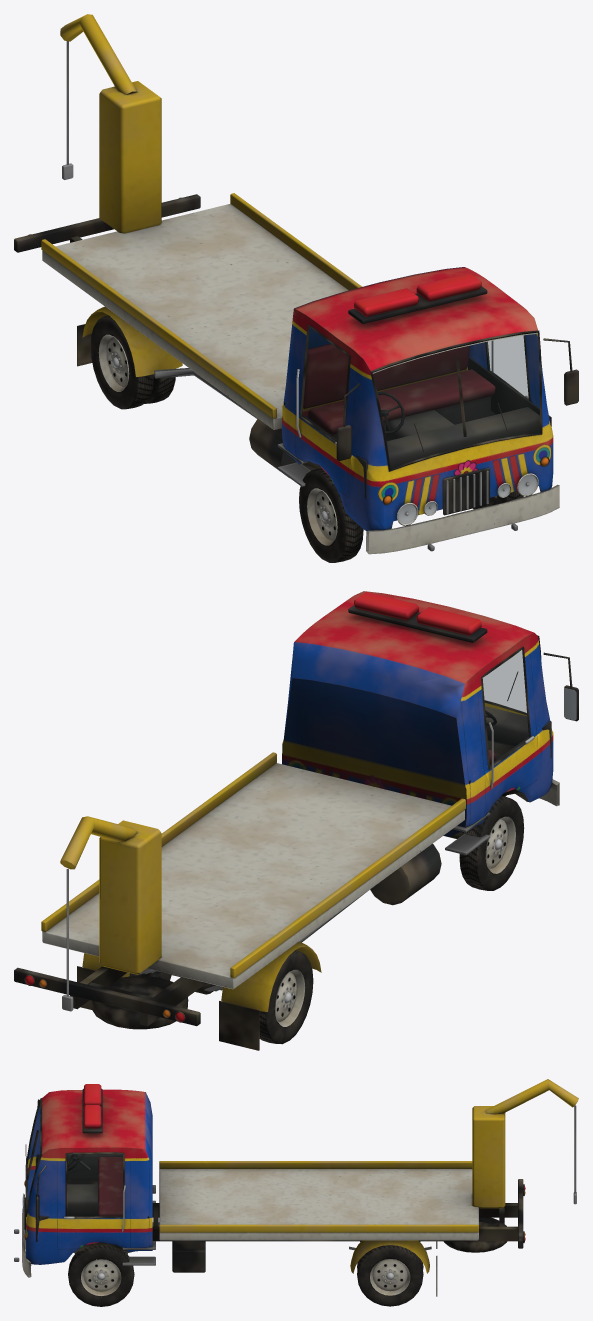
The model's file is wrecker.glb.
3 views of the same model, one above another, from view 1: azimuth 30°, elevation 25°; view 2: azimuth 150°, elevation 25°; view 3: azimuth 270°, elevation 25° (orthographic). The views are drawn at different scales.
Visible parts, largest first — view 1: body, glass, door_D, wheel_RR, wheel_FR, door_D_glass; view 2: body, door_D, wheel_FR, door_D_glass, wheel_RR, glass; view 3: body, glass, wheel_RL, wheel_FL, door_D.
Boxes of the visible parts, x1,y1,x2,y2 form: body: (14,14,578,554); glass: (373,333,539,523); door_D: (296,322,359,510); wheel_RR: (90,315,175,409); wheel_FR: (299,468,363,562); door_D_glass: (302,327,348,440); body: (14,591,578,1050); door_D: (477,640,539,819); wheel_FR: (459,796,524,890); door_D_glass: (483,650,528,766); wheel_RR: (259,950,313,1044); glass: (483,651,526,712); body: (14,1079,578,1296); glass: (22,1105,122,1245); wheel_RL: (357,1245,423,1306); wheel_FL: (68,1245,134,1306); door_D: (67,1153,122,1178).
Size of the model in its own units: 2.89 by 3.29 by 8.48.
2 materials, 1 textured.
